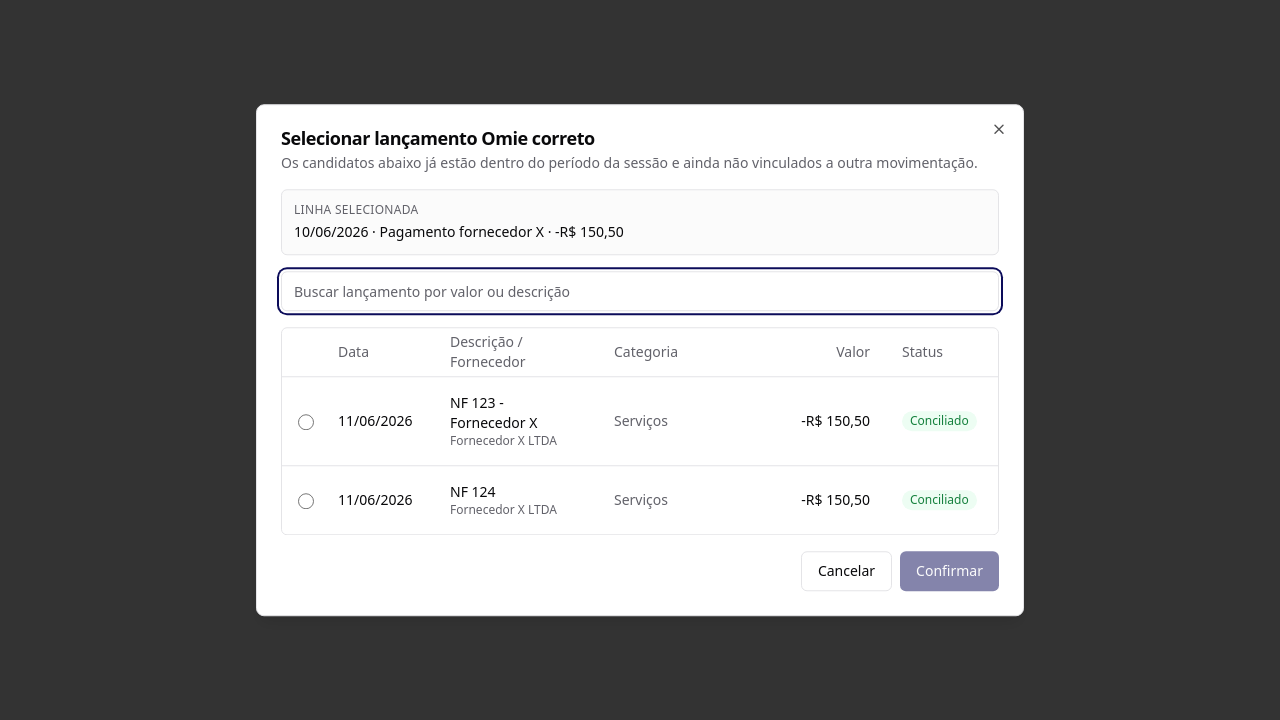
Test: TrocarLancamentoModal — operabilidade por teclado › clicar na linha continua selecionando (conveniência de mouse preservada)
Click the text "NF 123 - Fornecedor X": [494, 412] box top-left (450, 393), bottom-right (537, 432)
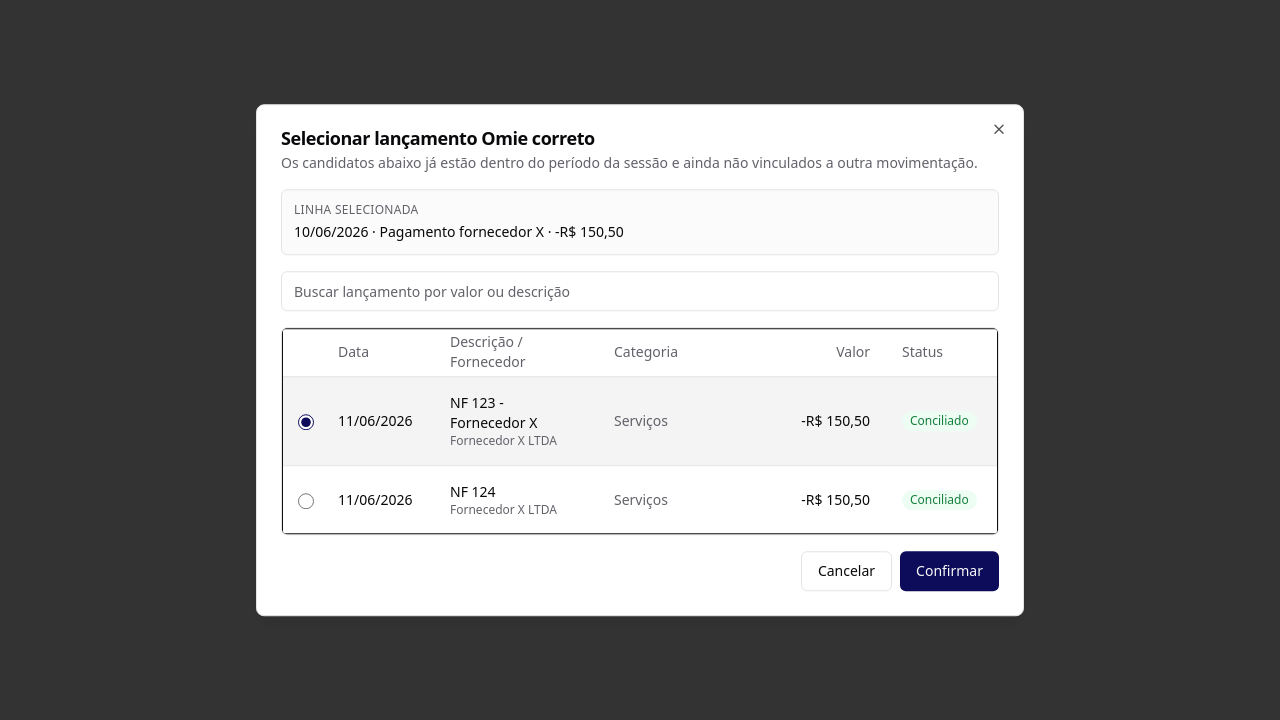
Result: the radio button named "NF 123 - Fornecedor X" is checked at top-left (298, 414), bottom-right (314, 430)
